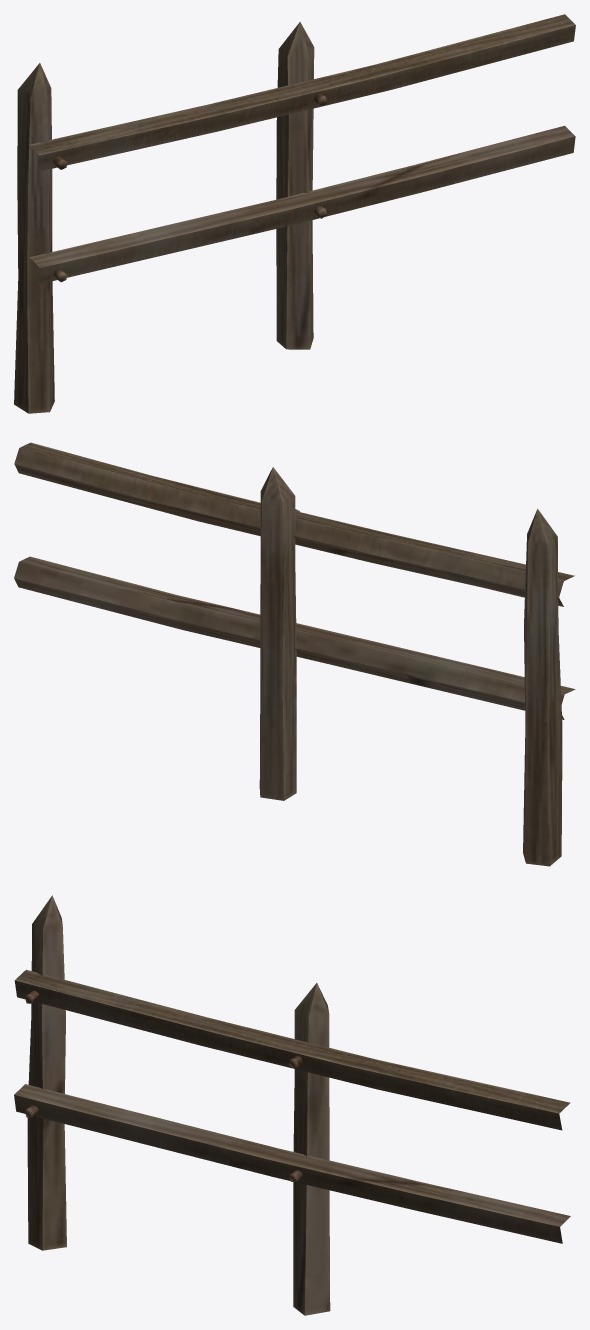
Rendered from fence_lod1.glb.
3 renders of one model, top to bottom at view 1: azimuth 30°, elevation 25°; view 2: azimuth 150°, elevation 25°; view 3: azimuth 330°, elevation 25°, orthographic.
Parts seen in each view (by area): view 1: fence; view 2: fence; view 3: fence.
Boxes of the visible parts, box(x1,y1,x2,y2) form: fence: box(14, 14, 575, 413); fence: box(14, 442, 575, 866); fence: box(14, 895, 570, 1315).
Size of the model in its own units: 2 by 1.22 by 0.2144.
Materials: 1 (1 with a texture image).
